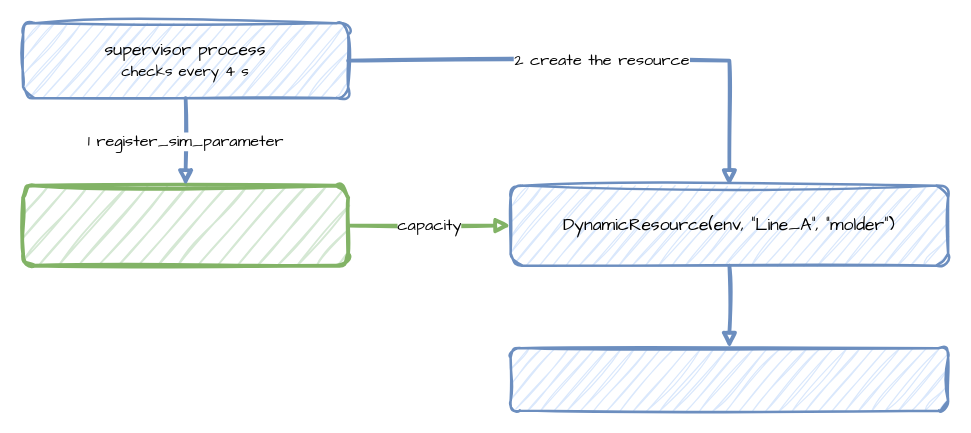
Some shapes in this 971 by 433 pixel diagram are drawn without their labels. The shapes that lost their labels are listed below. From the top down, each one's centre as x and y in pixels, then its label:
At [185,225]: "registry new Line_A.resources.molder paths".
At [729,378]: "new workers request the molder".
